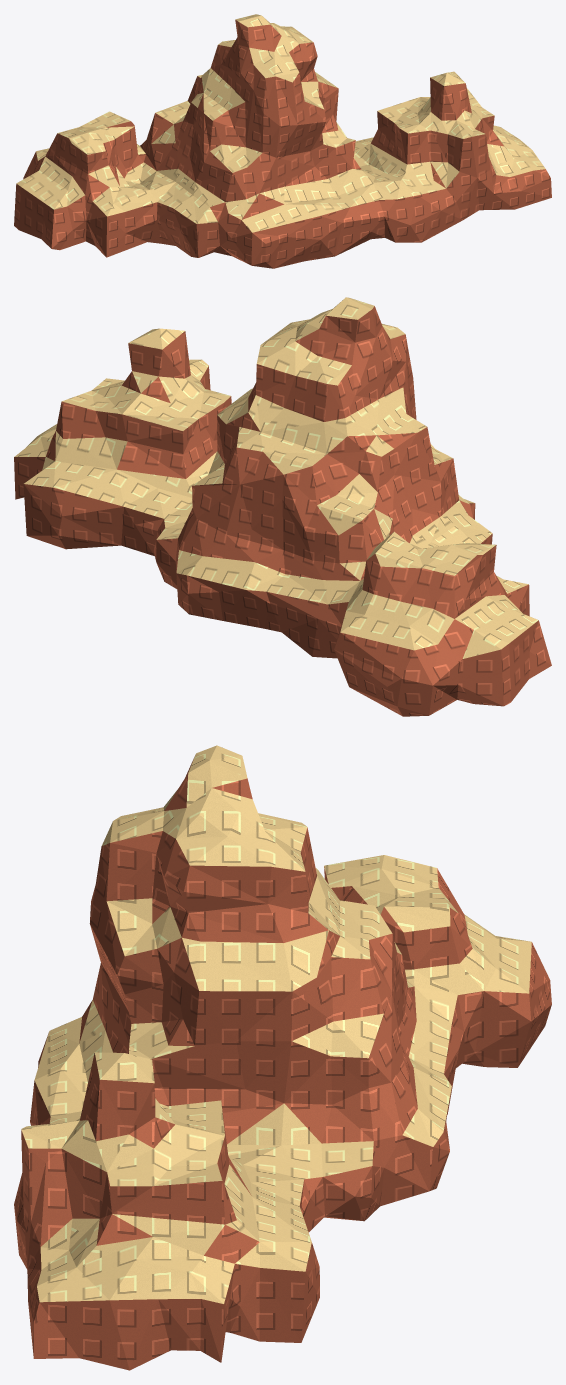
File: DesertRocks.glb
The picture shows the model from 3 angles, top to bottom: view 1: azimuth 30°, elevation 25°; view 2: azimuth 150°, elevation 25°; view 3: azimuth 270°, elevation 25°; orthographic projection. The views are drawn at different scales.
Parts seen in each view (by area): view 1: DesertRocks_Rock, DesertRocks_Top; view 2: DesertRocks_Rock, DesertRocks_Top; view 3: DesertRocks_Rock, DesertRocks_Top.
Part boxes in pixels (x1,y1,x2,y2): DesertRocks_Rock: (14, 20, 551, 268); DesertRocks_Top: (16, 14, 545, 232); DesertRocks_Rock: (14, 306, 551, 716); DesertRocks_Top: (14, 297, 538, 658); DesertRocks_Rock: (14, 757, 551, 1370); DesertRocks_Top: (21, 745, 531, 1303).
Bounding box in the file's own units: 26.36 × 12.95 × 15.49.
Materials: 2 (2 with a texture image).
